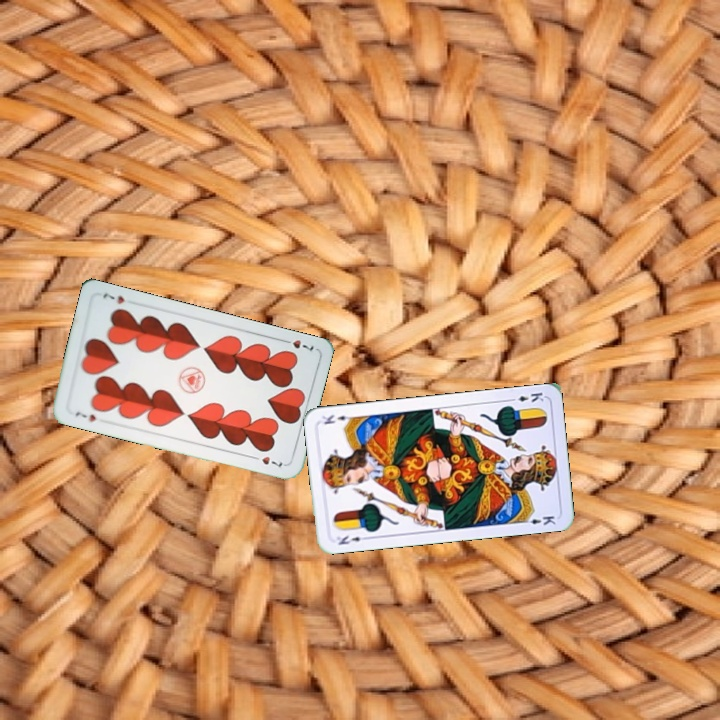EK: (505, 388, 546, 405), (332, 531, 371, 547)
H7: (278, 335, 316, 353), (71, 407, 98, 424)
